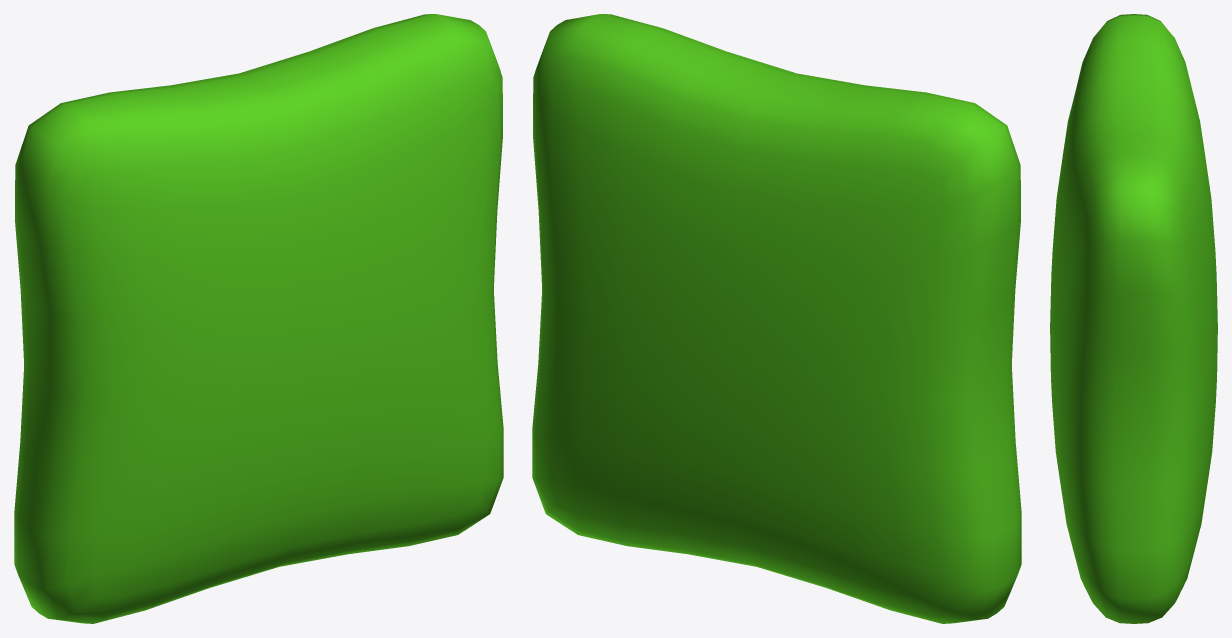
The model's file is Pillow.FBX.
The picture shows the model from 3 angles, left to right: view 1: azimuth 30°, elevation 25°; view 2: azimuth 150°, elevation 25°; view 3: azimuth 270°, elevation 25°; orthographic projection. The views are drawn at different scales.
Visible parts, largest first — view 1: Cube; view 2: Cube; view 3: Cube.
Part boxes in pixels (x1,y1,x2,y2): Cube: (14,14,503,623); Cube: (532,14,1021,623); Cube: (1050,14,1217,623).
Size of the model in its own units: 97.74 by 102 by 34.8.
